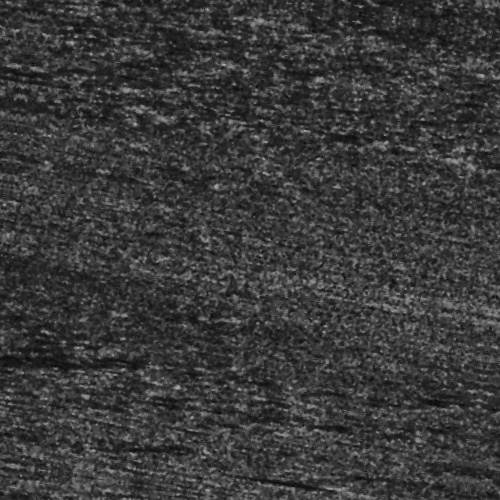object: (381, 467, 402, 474)
shadow: (326, 467, 391, 474)
